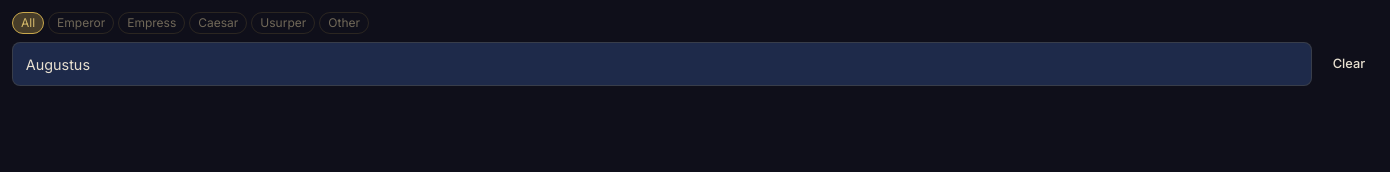
Scenario: ImperialFigurePicker › clear button unsets the selection
The width and height of the screenshot is (1390, 172).
Click the button "Clear".
click(1349, 64)  # box [1320,42,1378,86]
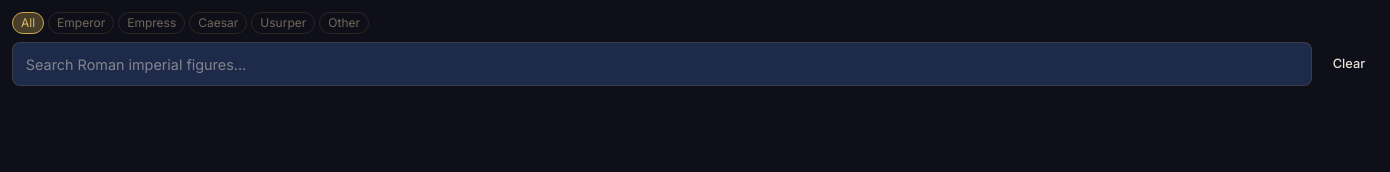
expect the field with placeholder "Search Roman imperial figures..." is empty: met, box [12,42,1312,86]
